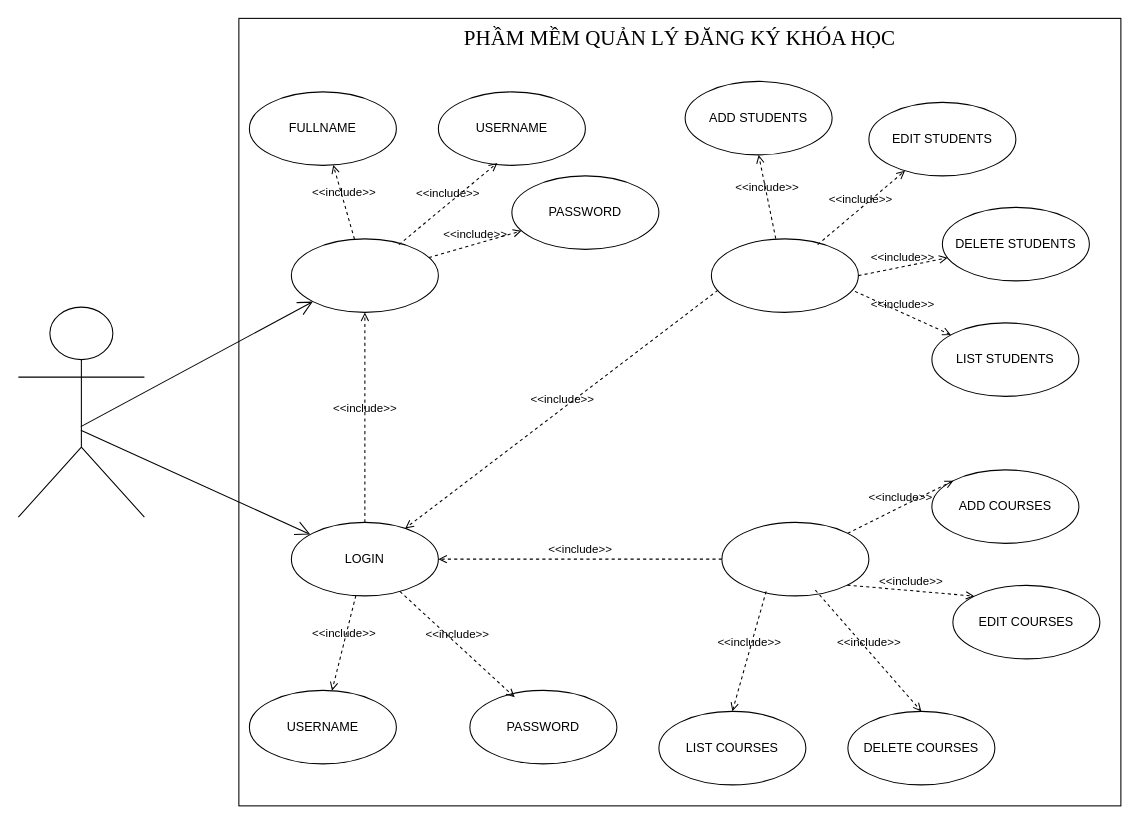
Some shapes in this 1139 by 824 pixel diagram are drawn without their labels. Each missing label, with the box of its shape:
ADMINISTRATOR: (17, 306, 144, 517)
MANAGE COURSES: (721, 521, 869, 596)
MANAGE STUDENTS: (710, 238, 858, 312)
REGISTER: (290, 238, 438, 312)
